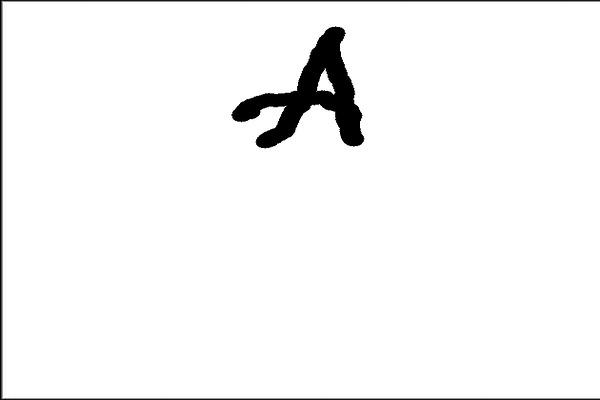A: (230, 19, 375, 159)
